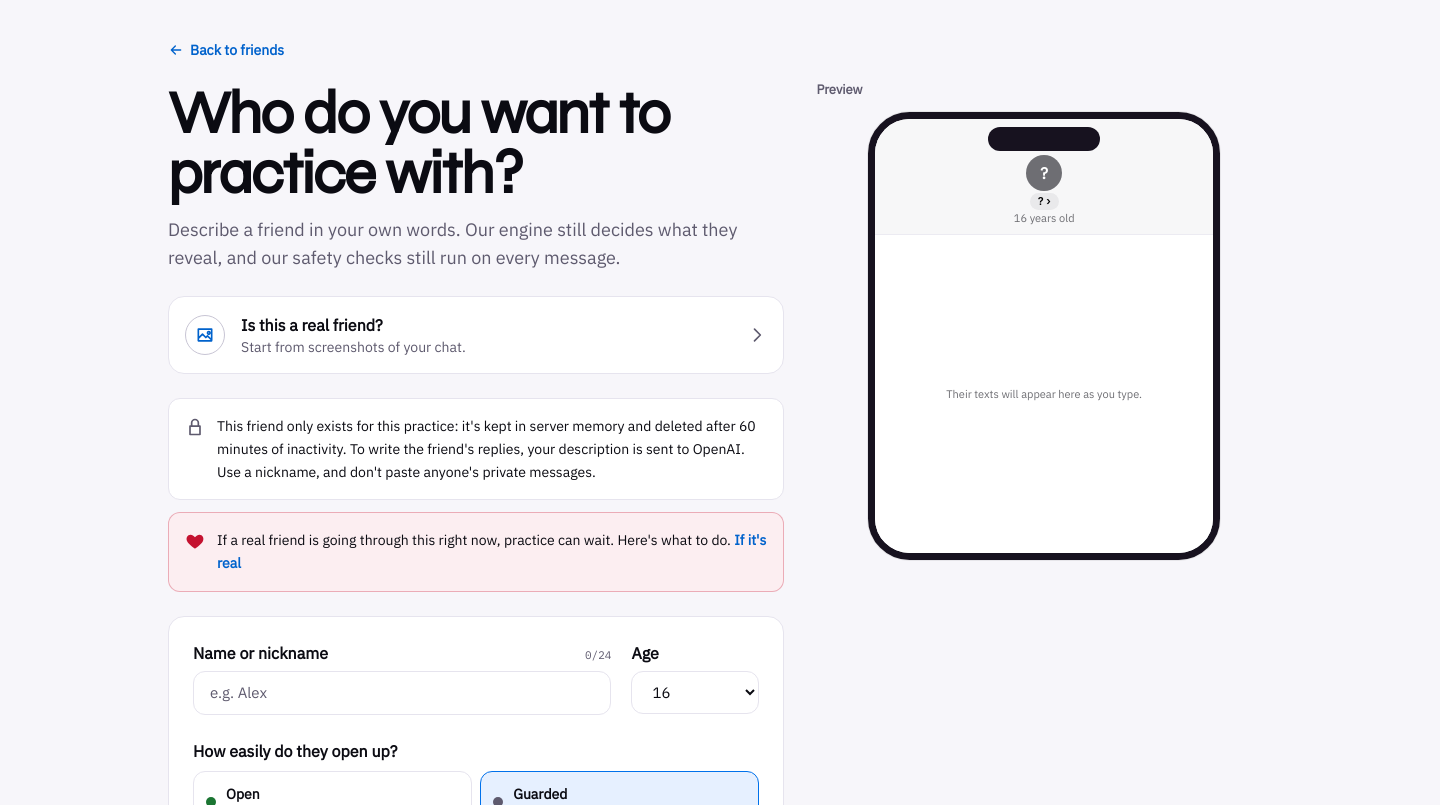
Test: Add your own friend › sends the spec body and shows a 422 message next to the right field
The image size is (1440, 805).
In the field labelled "Name or nickname": (402, 693) [193,671,611,715], type "Alex"
(page scrolled)
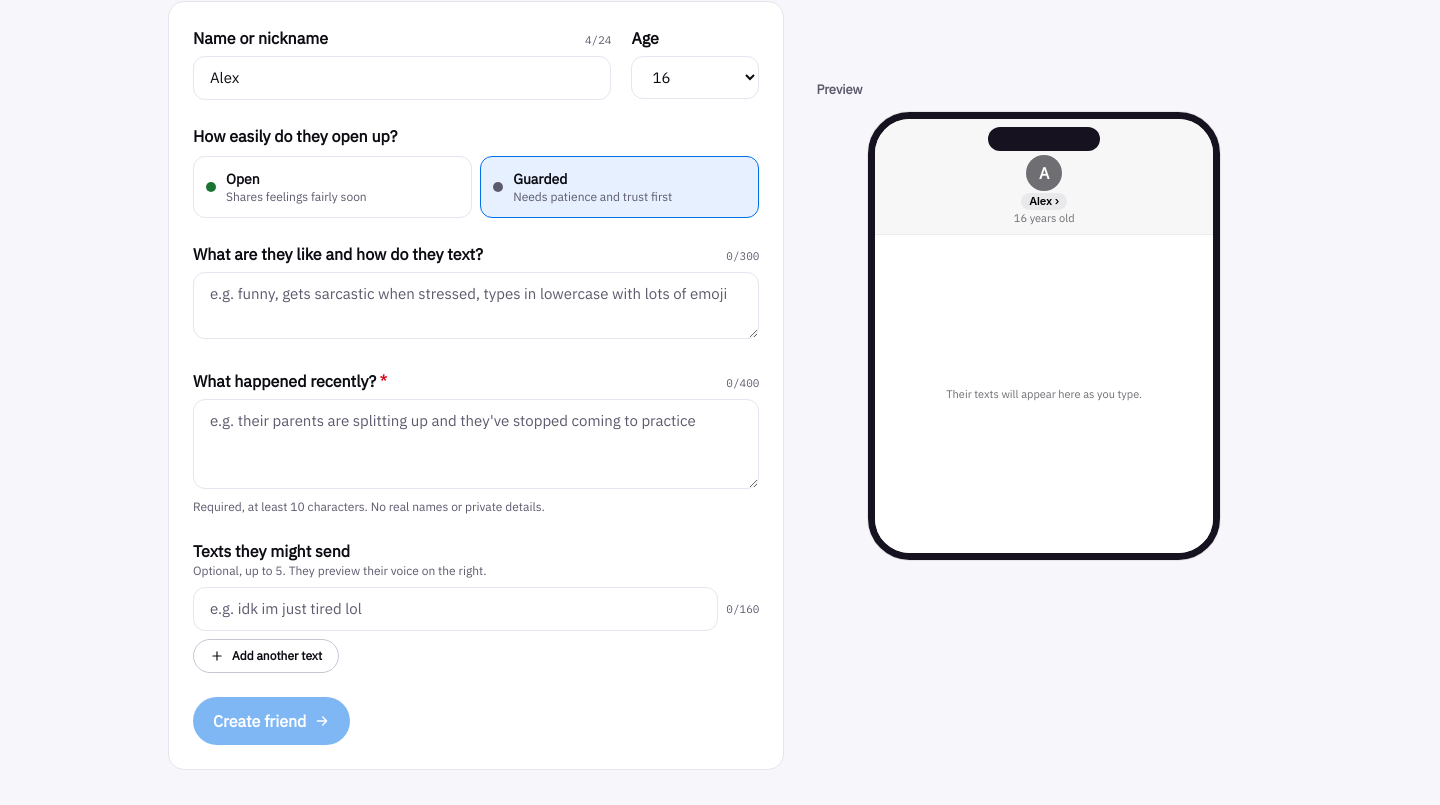
Replace the text in the text box labelled "What happened recently? *" with "Their parents are splitting up and they stopped coming to practice.": (476, 444) [193,399,759,489]
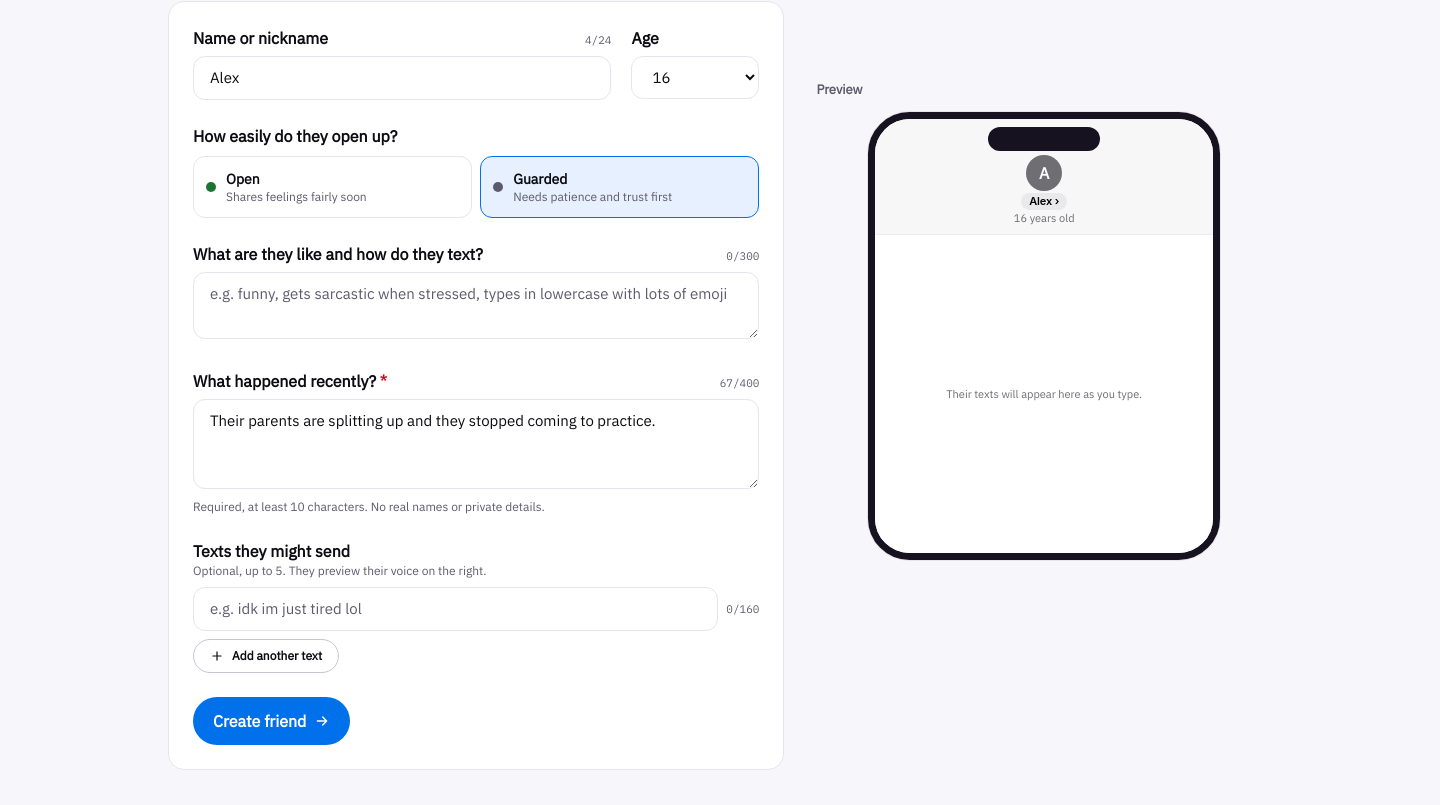
Click the button with test id "friend-create": (272, 721) [193,697,350,745]
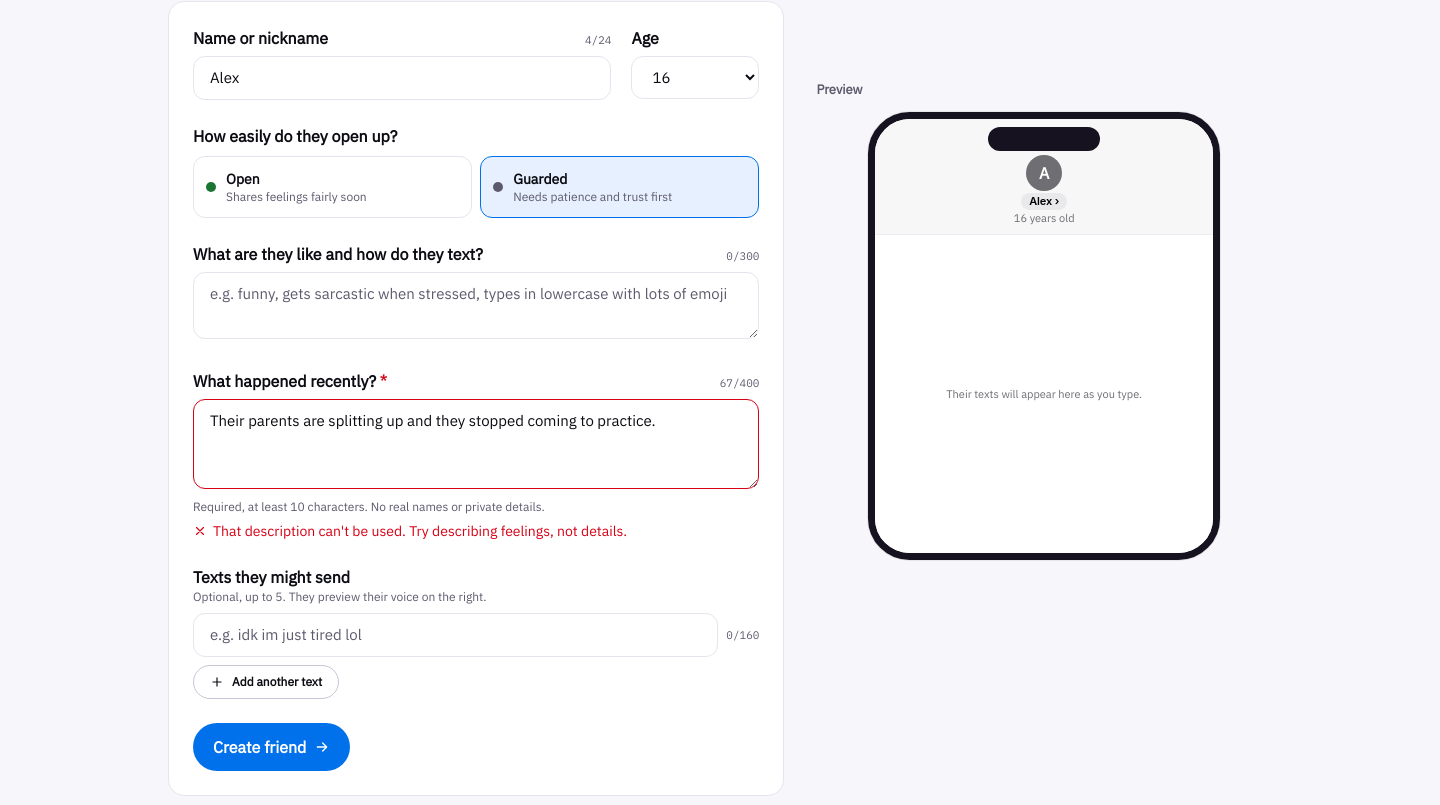
Expected: the text "That description can't be used. Try describing feelings, not details." is shown, [193,522,627,540]
